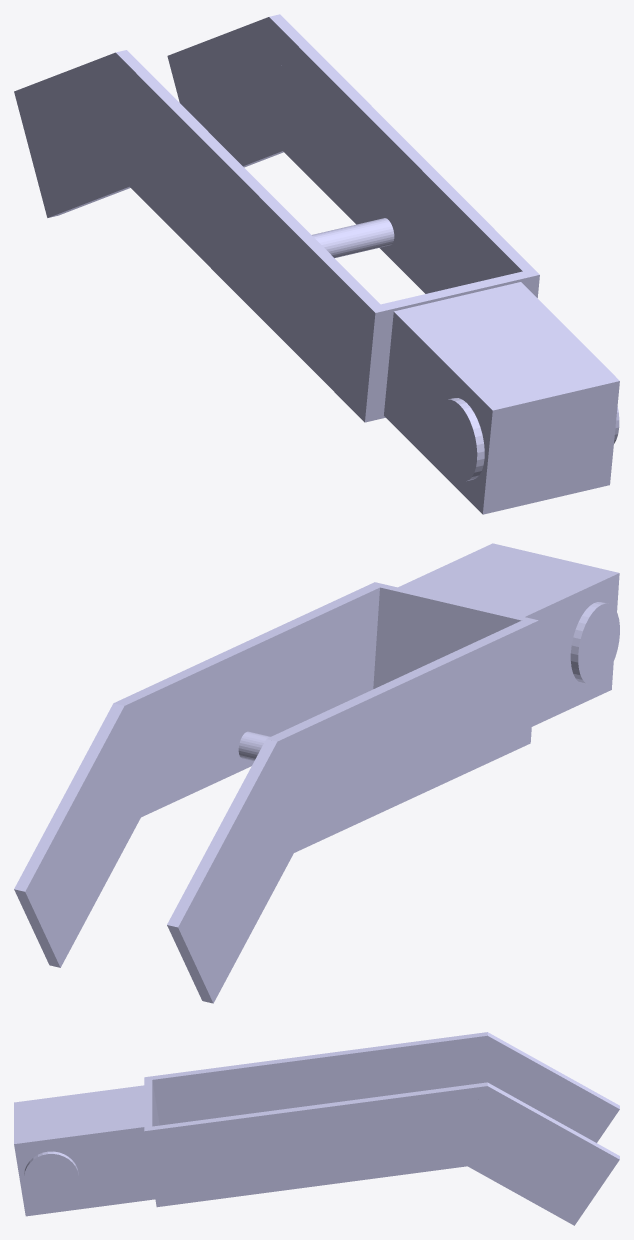
The model's file is dbAlpha_URDF_Leg_Thorax_Left_Link2__118__.dae.
The picture shows the model from 3 angles, top to bottom: view 1: azimuth 30°, elevation 25°; view 2: azimuth 150°, elevation 25°; view 3: azimuth 270°, elevation 25°; orthographic projection. The views are drawn at different scales.
Visible parts, largest first — view 1: Node_0x7f7afd0c69c0 (×8); view 2: Node_0x7f7afd0c69c0 (×7); view 3: Node_0x7f7afd0c69c0 (×7).
Boxes of the visible parts, x1,y1,x2,y2 form: Node_0x7f7afd0c69c0 (×8): (14,14,619,514); Node_0x7f7afd0c69c0 (×7): (14,543,619,1003); Node_0x7f7afd0c69c0 (×7): (14,1032,619,1225).
Bounding box in the file's own units: 0.0446 × 0.0551 × 0.2134.
